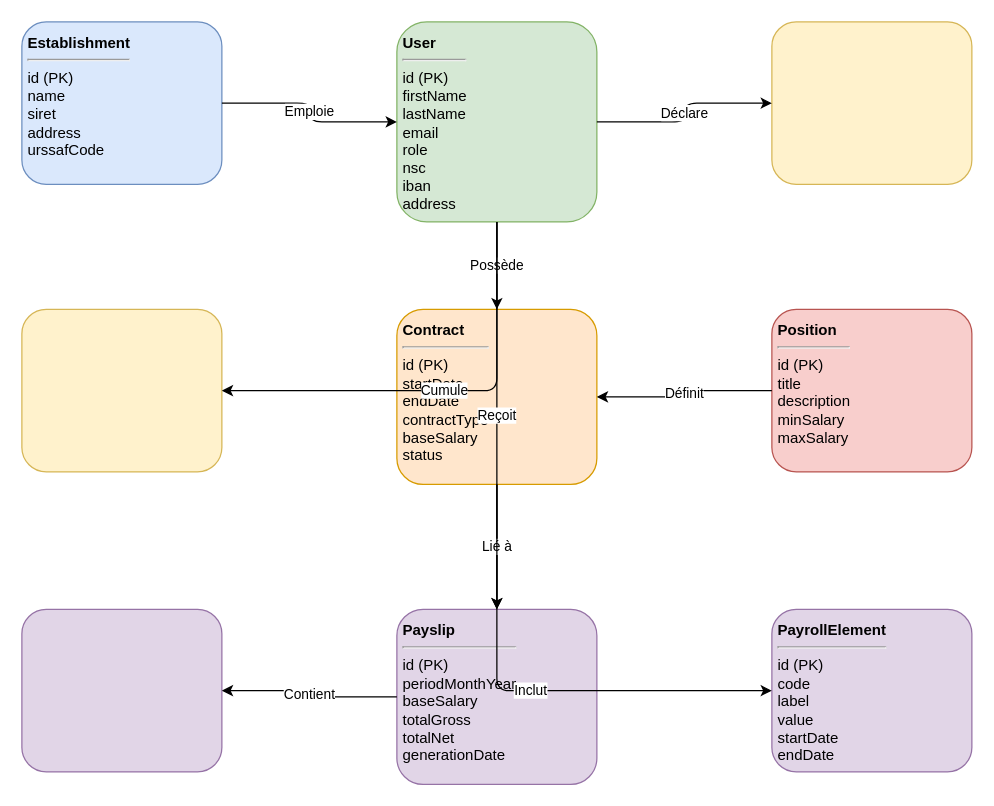
The diagram is 994 pixels wide and 806 high, and some of its shapes have lost their labels. The shapes that lost their labels are listed below. From the top down, each one's centre as x and y in pixels, then its label:
At (x=871, y=102): "Absence id (PK) startDate endDate reason status".
At (x=121, y=390): "LeaveBalance id (PK) leaveType acquired taken balance".
At (x=121, y=690): "PayslipLine id (PK) code label employeeAmount employerAmount".
